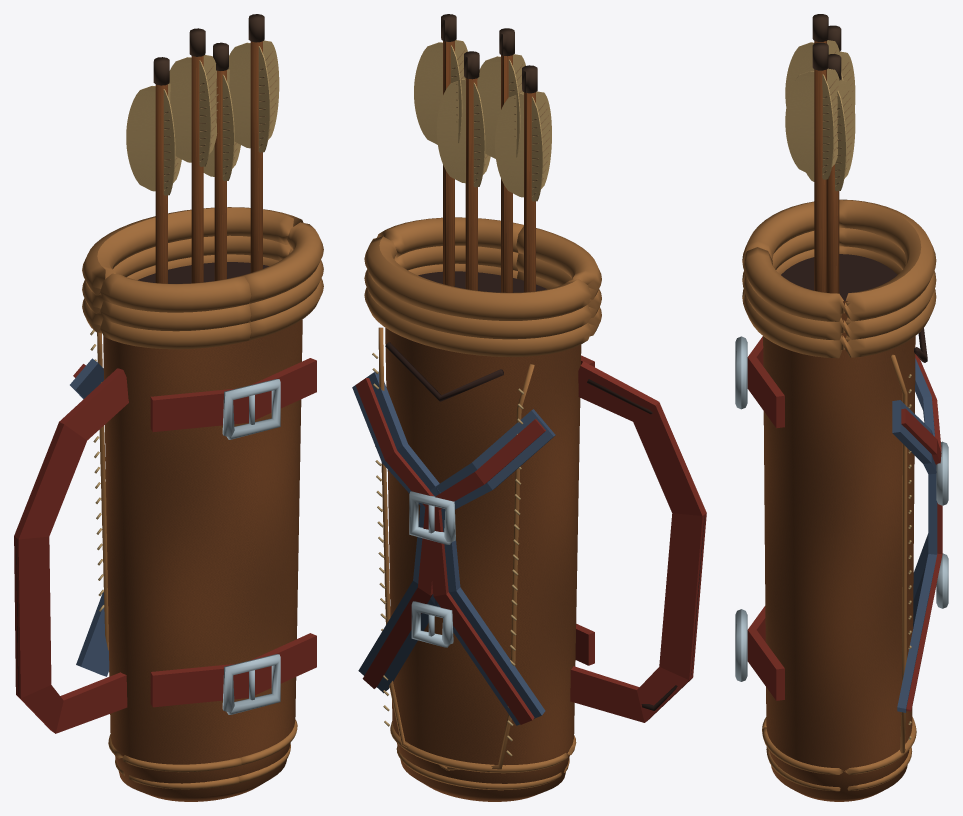
Rendered from quiver.glb.
3 renders of one model, left to right at view 1: azimuth 30°, elevation 25°; view 2: azimuth 150°, elevation 25°; view 3: azimuth 270°, elevation 25°, orthographic.
Parts seen in each view (by area): view 1: QuiverMesh; view 2: QuiverMesh; view 3: QuiverMesh.
Part boxes in pixels (x1,y1,x2,y2): QuiverMesh: [14, 14, 323, 801]; QuiverMesh: [352, 14, 706, 801]; QuiverMesh: [735, 14, 948, 801].
Bounding box in the file's own units: 0.407 × 0.928 × 0.24.
11 materials, 3 textured.
